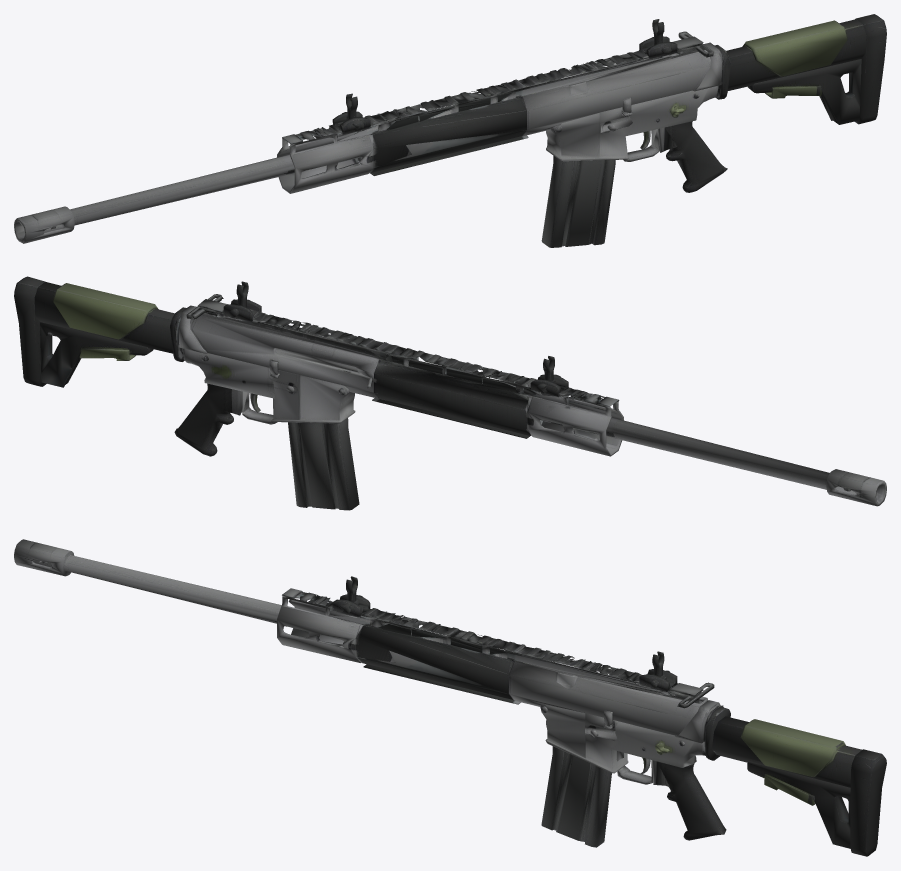
Rendered from dmr_falcon.glb.
3 renders of one model, top to bottom at view 1: azimuth 30°, elevation 25°; view 2: azimuth 150°, elevation 25°; view 3: azimuth 330°, elevation 25°, orthographic.
Bounding box in the file's own units: 0.957 × 0.2183 × 0.062.
1 material, 1 textured.
